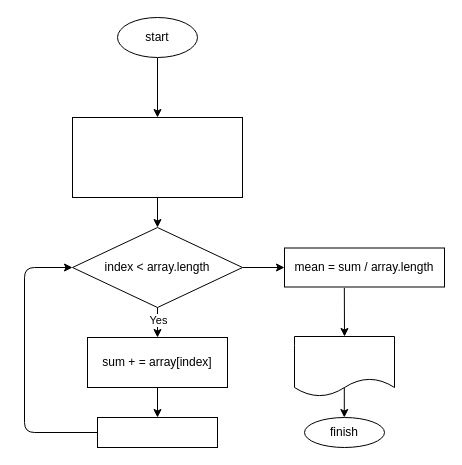
The diagram is 462 pixels wide and 465 high, and some of its shapes have lost their labels. The shapes that lost their labels are listed below. From the top down, each one's centre as x and y in pixels, then its label:
point (157, 157): array = [2, 5, 13, 7, 6, 4] index = 0 sum = 0 mean
point (344, 366): print mean
point (157, 432): index++
